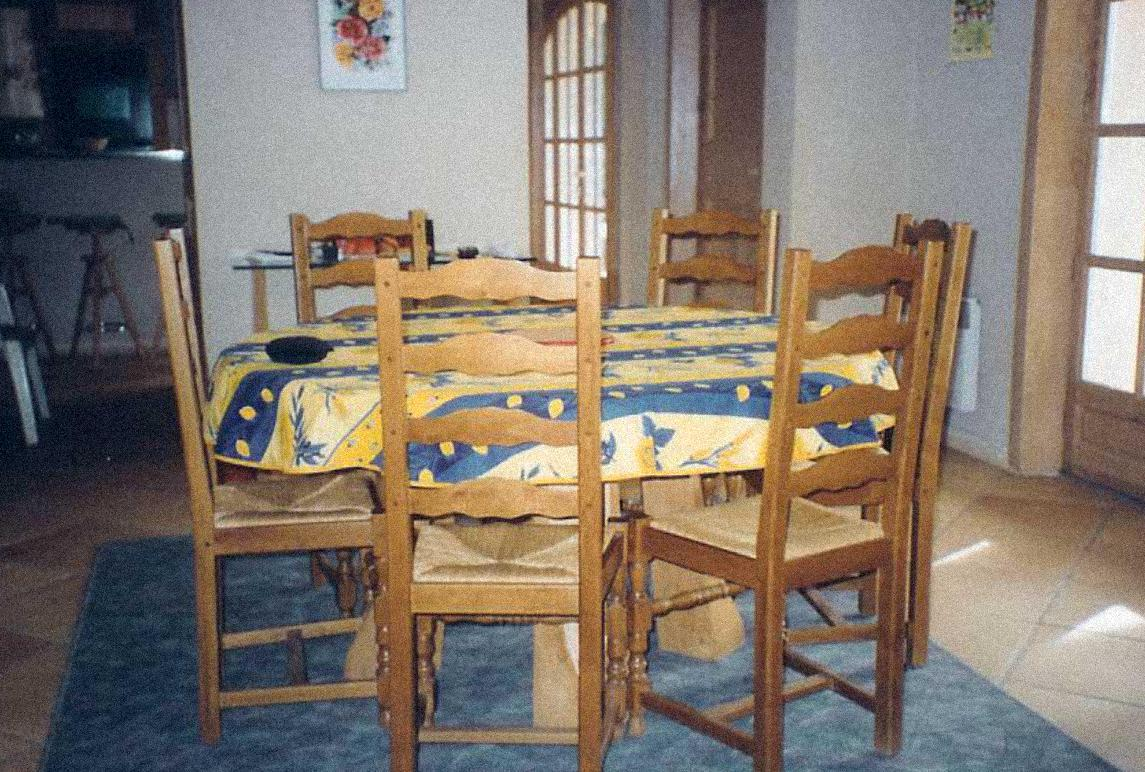Otro Obstaculo: (1079, 0, 1145, 562)
Puerta: (539, 0, 613, 259)
